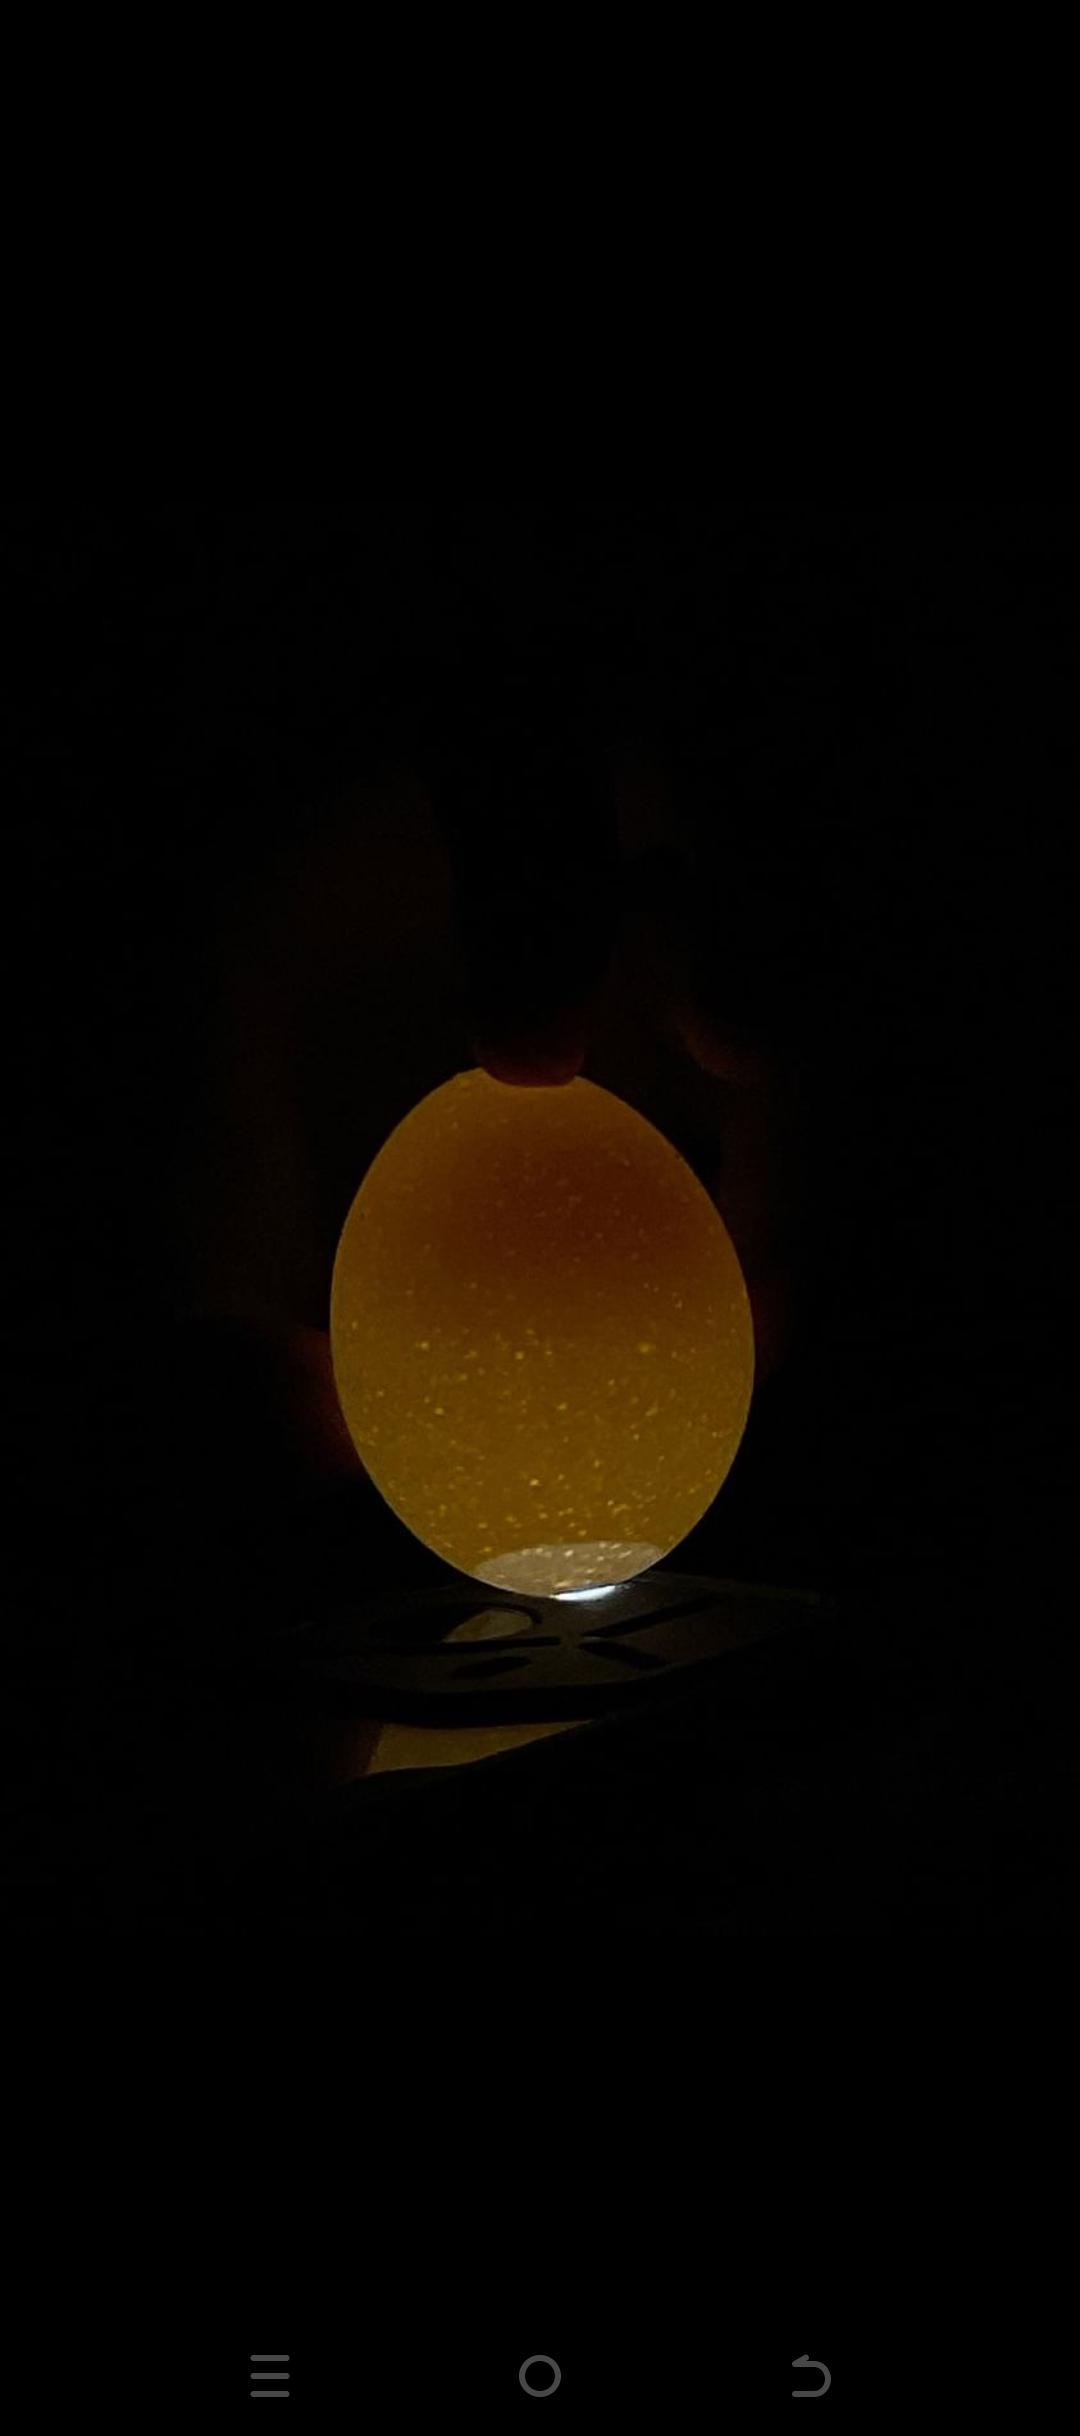A - Good: (317, 1039, 777, 1623)
